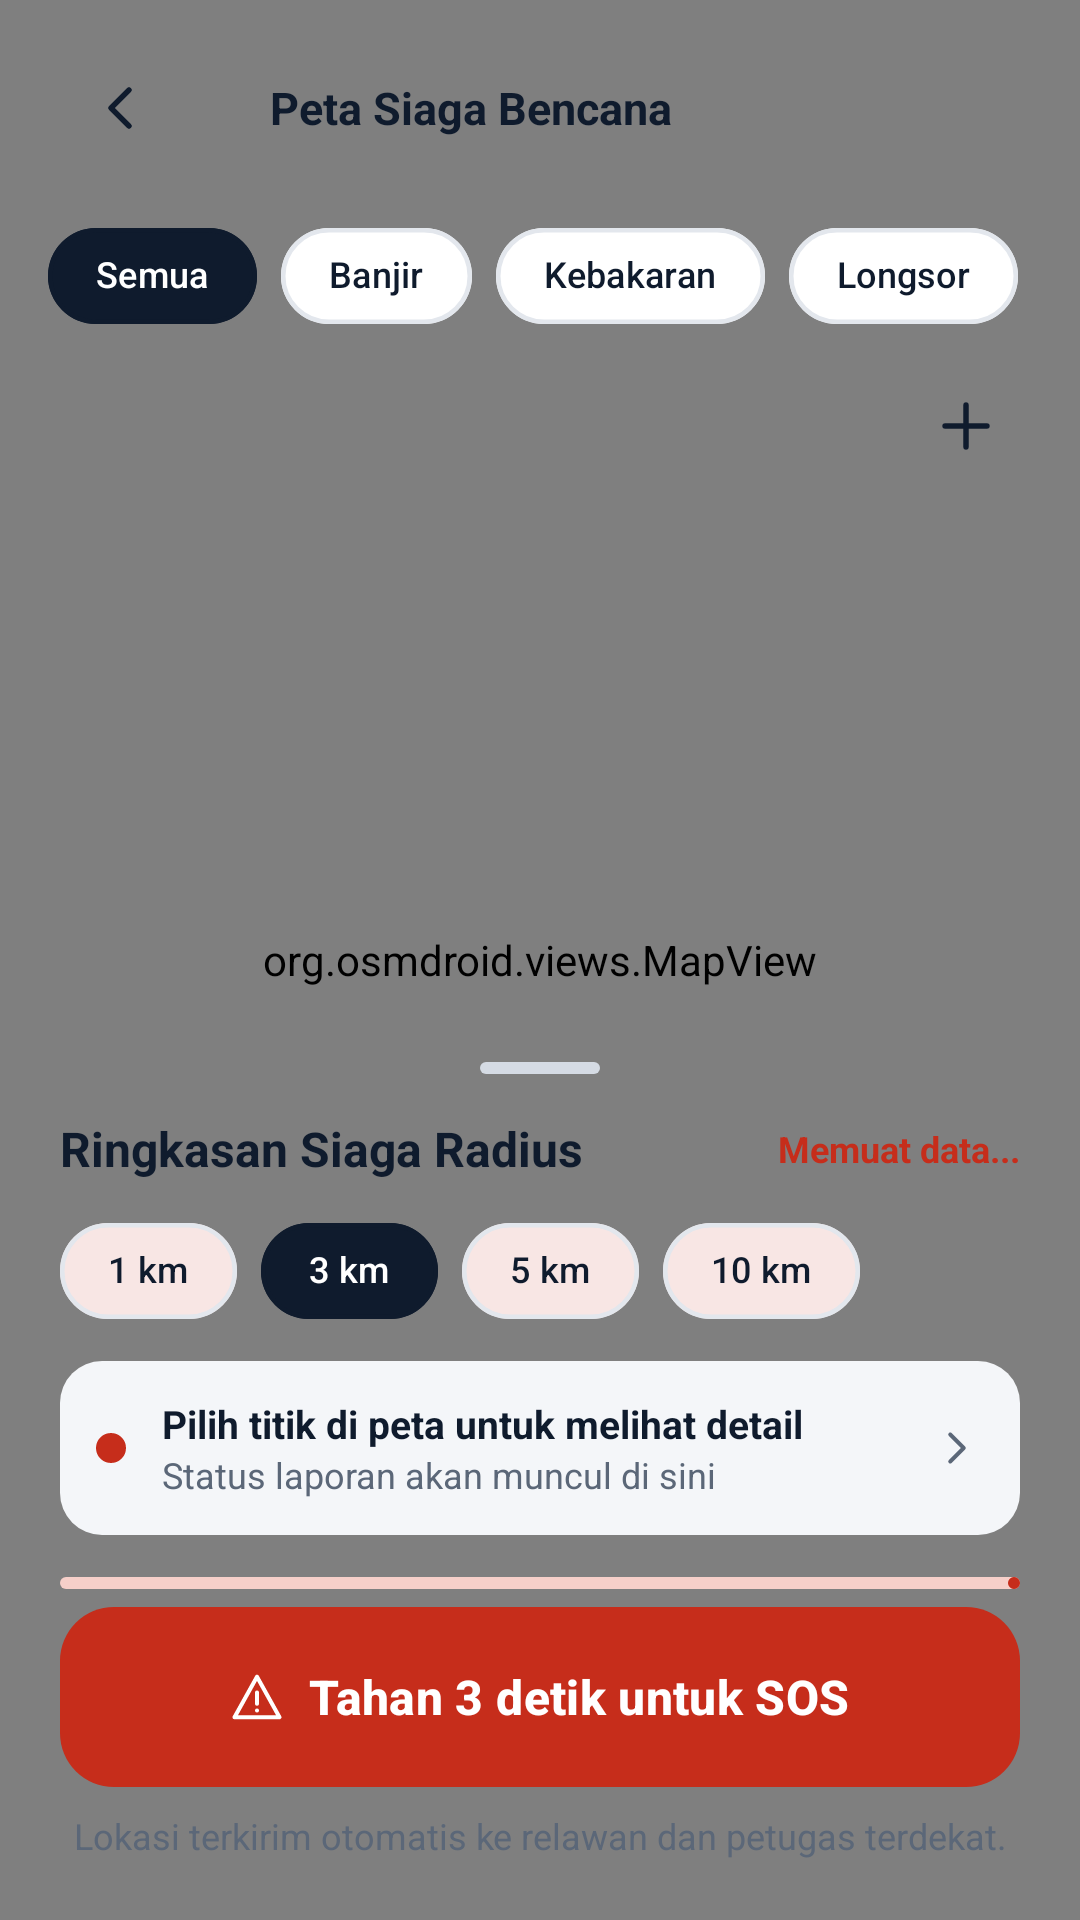

Screen size 1080x1920. Icon name, then its box in pixels as (x1,y1,x2,y2):
chevron right: (948,1432,966,1464)
Kembali: (108,87,132,129)
Perbesar Peta: (942,402,990,450)
